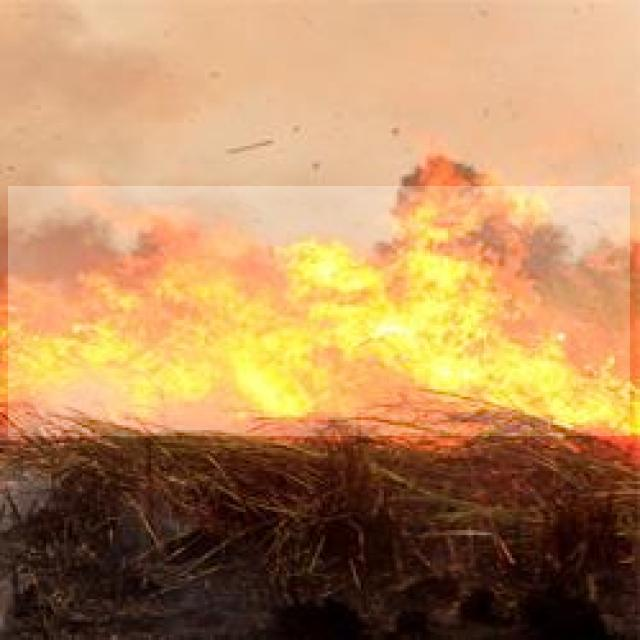Fire: (8, 186, 630, 436)
